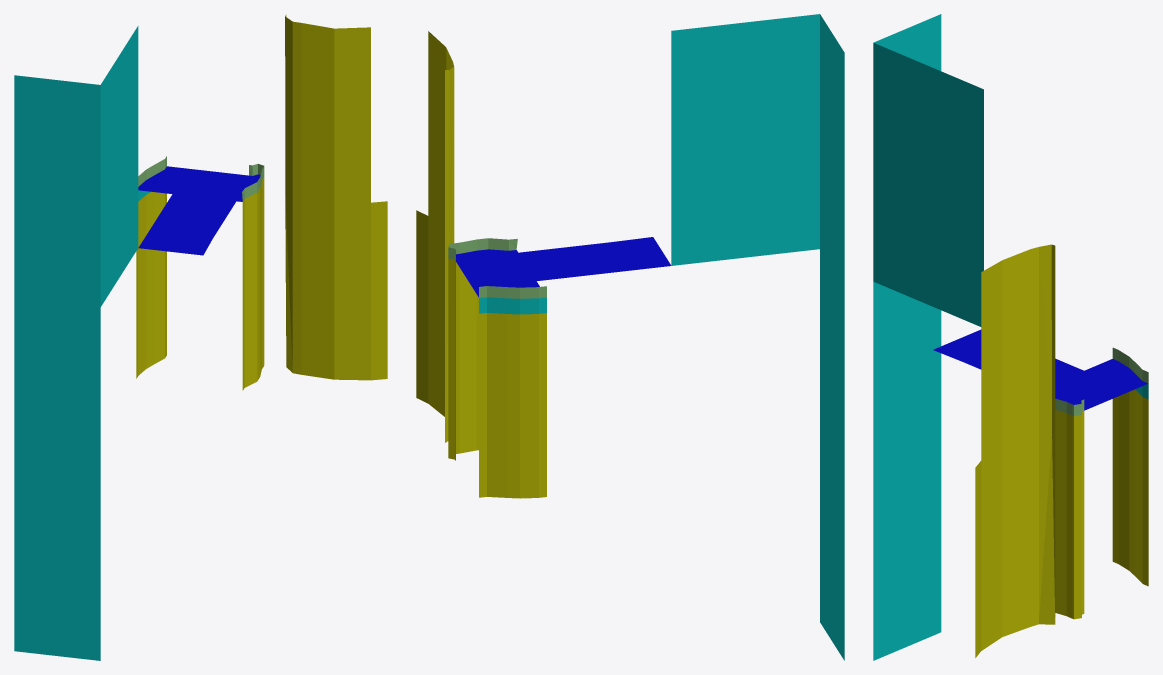
The model's file is STG0100_COLI_11.OBJ.
The picture shows the model from 3 angles, left to right: view 1: azimuth 30°, elevation 25°; view 2: azimuth 150°, elevation 25°; view 3: azimuth 270°, elevation 25°; orthographic projection. The views are drawn at different scales.
Parts seen in each view (by area): view 1: STG0100_COLI_11_02000000, STG0100_COLI_11_02020000, STG0100_COLI_11_01000200, STG0100_COLI_11_08000000; view 2: STG0100_COLI_11_02000000, STG0100_COLI_11_02020000, STG0100_COLI_11_01000200, STG0100_COLI_11_08000000; view 3: STG0100_COLI_11_02000000, STG0100_COLI_11_02020000, STG0100_COLI_11_01000200, STG0100_COLI_11_08000000.
Boxes of the visible parts, x1,y1,x2,y2 form: STG0100_COLI_11_02000000: (14, 26, 150, 660); STG0100_COLI_11_02020000: (136, 14, 387, 390); STG0100_COLI_11_01000200: (138, 166, 260, 255); STG0100_COLI_11_08000000: (138, 156, 264, 201); STG0100_COLI_11_02000000: (479, 14, 844, 660); STG0100_COLI_11_02020000: (416, 31, 546, 498); STG0100_COLI_11_01000200: (456, 237, 671, 297); STG0100_COLI_11_08000000: (448, 238, 546, 298); STG0100_COLI_11_02000000: (873, 14, 1148, 660); STG0100_COLI_11_02020000: (975, 244, 1148, 657); STG0100_COLI_11_01000200: (933, 329, 1147, 410); STG0100_COLI_11_08000000: (1055, 347, 1148, 416).
Size of the model in its own units: 1154 by 1631 by 658.
